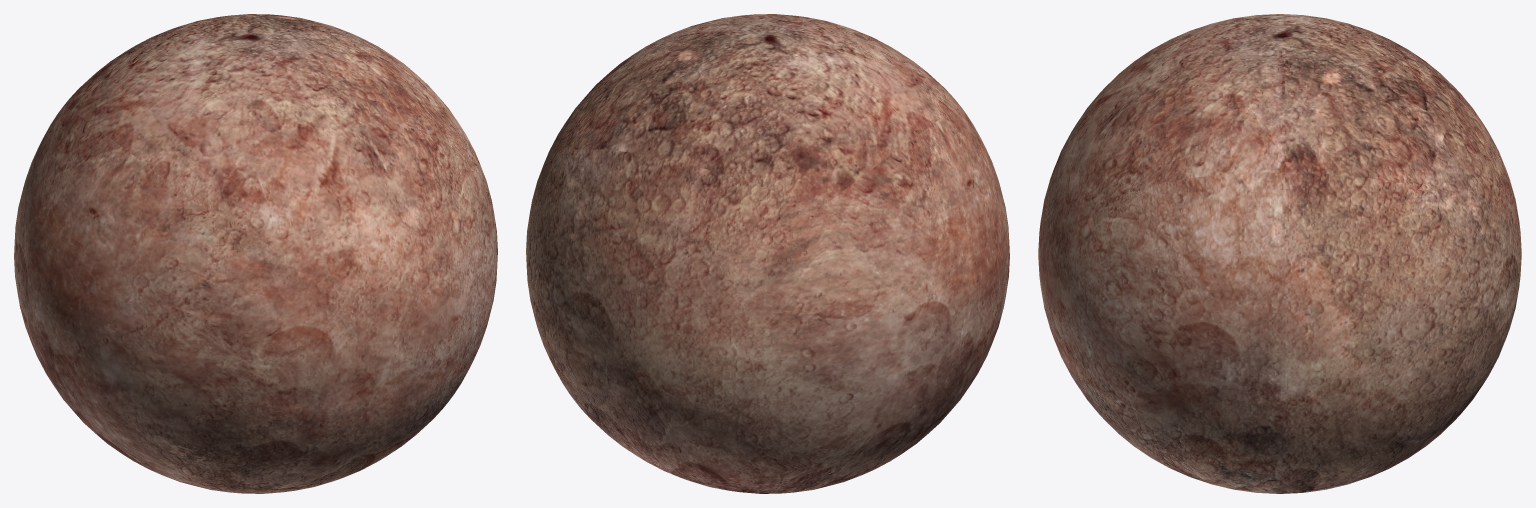
File: makemake.glb
3 views of the same model, side by side, from view 1: azimuth 30°, elevation 25°; view 2: azimuth 150°, elevation 25°; view 3: azimuth 270°, elevation 25° (orthographic).
Parts seen in each view (by area): view 1: Cube.008; view 2: Cube.008; view 3: Cube.008.
Part boxes in pixels (x1=…): Cube.008: x1=14, y1=14, x2=497, y2=493; Cube.008: x1=526, y1=14, x2=1009, y2=493; Cube.008: x1=1038, y1=14, x2=1521, y2=493.
Size of the model in its own units: 1000 by 990 by 1000.
Materials: 1 (1 with a texture image).
